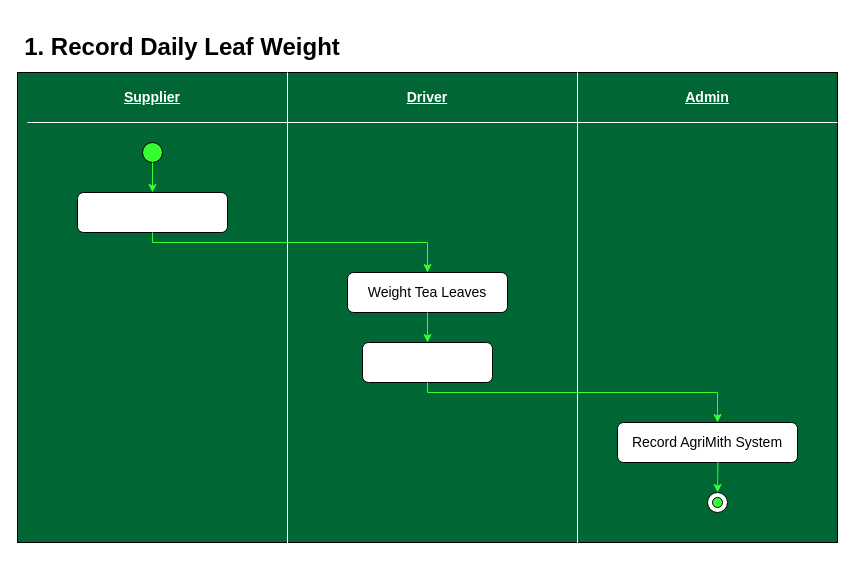
The diagram is 856 pixels wide and 564 high, and some of its shapes have lost their labels. The box of each missing label's shape, as (x1, y1, x2, y2) in pixels:
Deliver tea leaves: (76, 192, 228, 232)
Record Weight: (362, 342, 492, 382)
